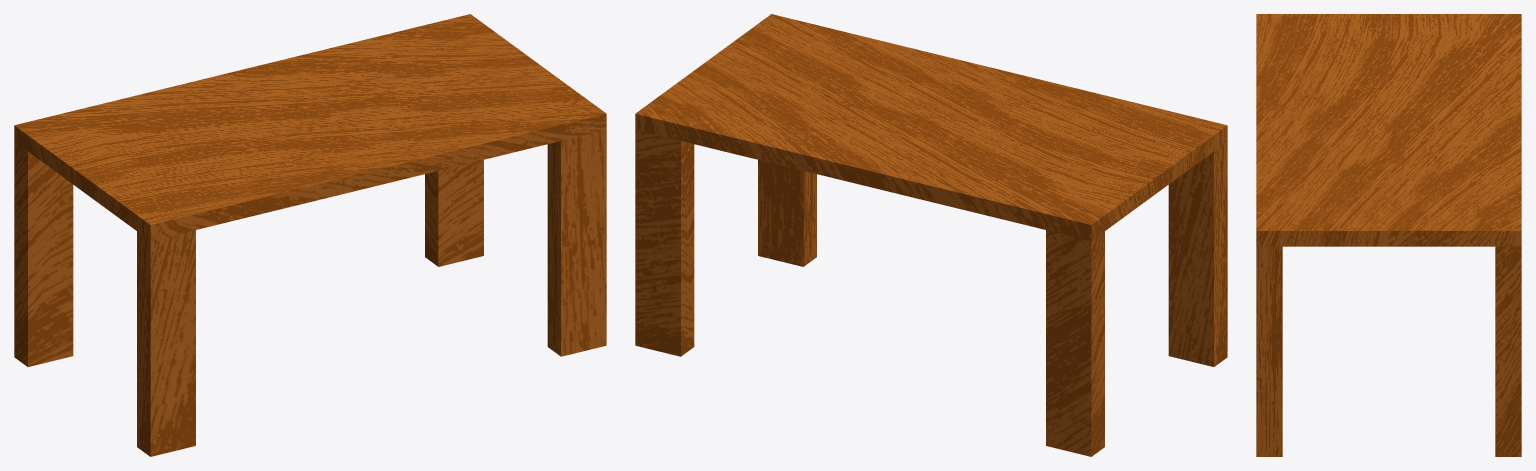
File: Tisch.fbx
3 renders of one model, left to right at view 1: azimuth 30°, elevation 25°; view 2: azimuth 150°, elevation 25°; view 3: azimuth 270°, elevation 25°, orthographic. The views are drawn at different scales.
Visible parts, largest first — view 1: Tisch1; view 2: Tisch1; view 3: Tisch1.
Boxes of the visible parts, bbox=[...] form: Tisch1: bbox=[14, 14, 606, 456]; Tisch1: bbox=[635, 14, 1227, 456]; Tisch1: bbox=[1256, 14, 1521, 456].
Size of the model in its own units: 6.48 by 3.15 by 3.35.
